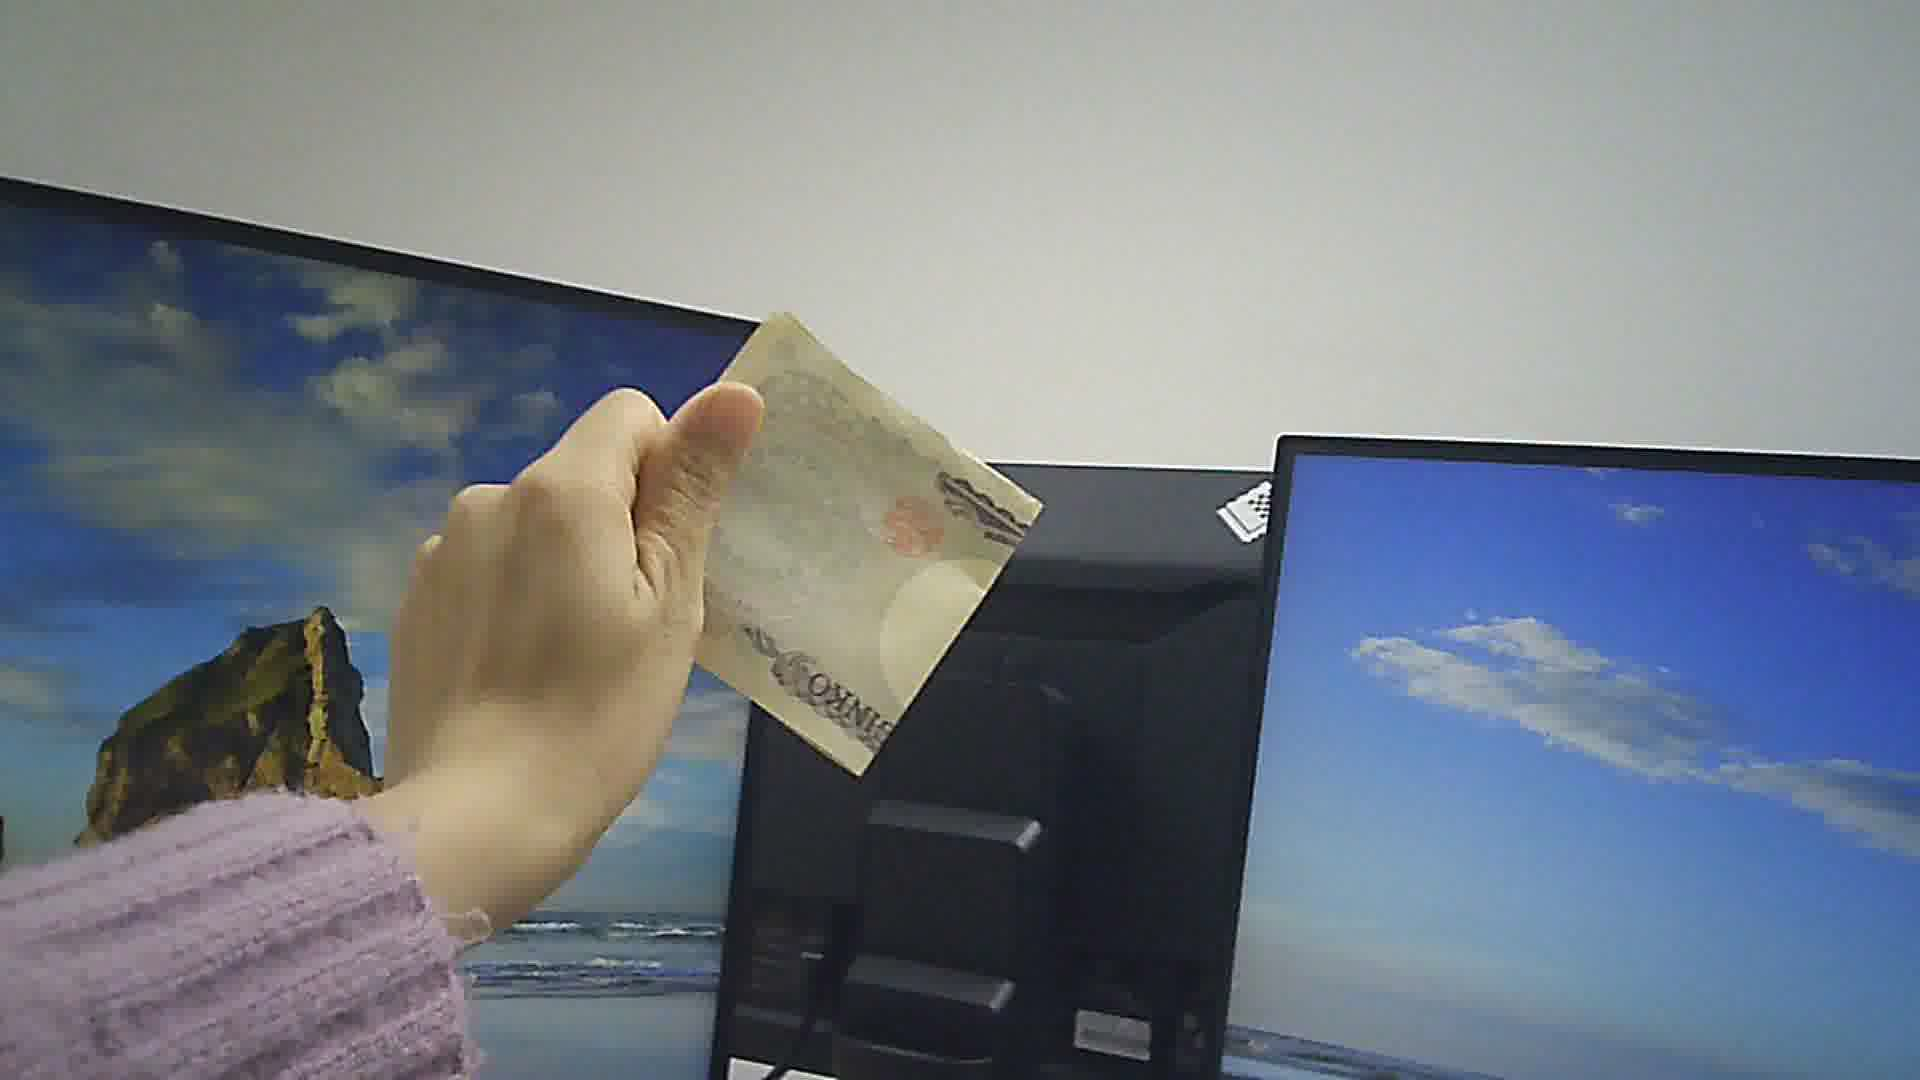5,000 Yen: (605, 301, 1043, 791)
